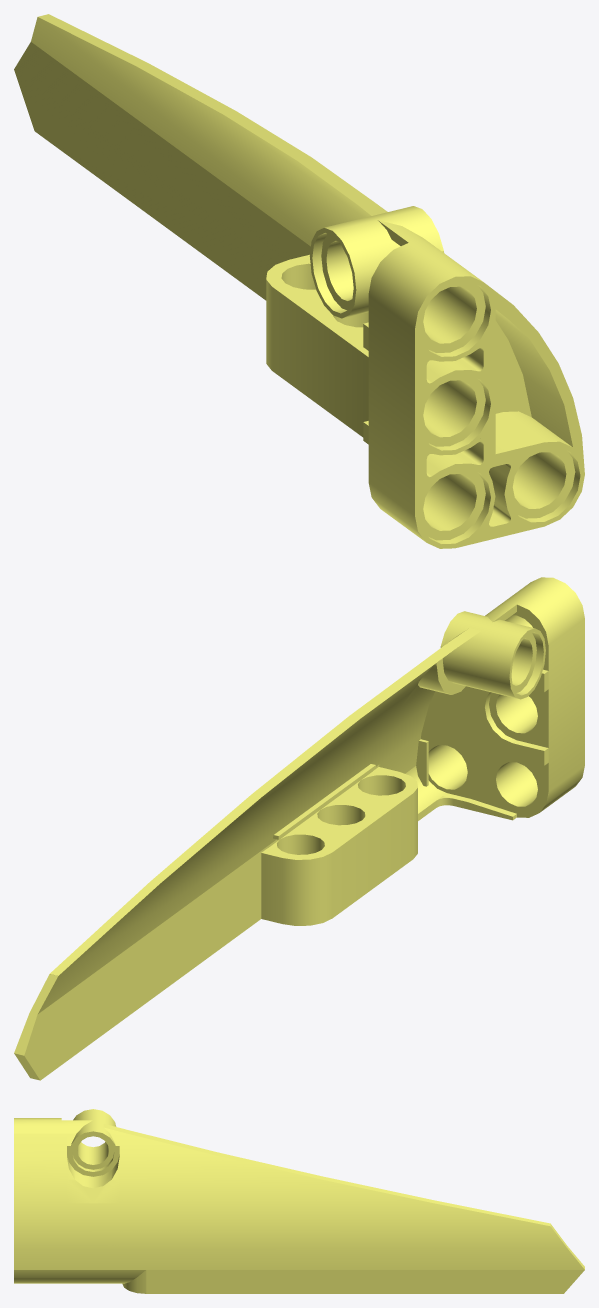
3 renders of one model, top to bottom at view 1: azimuth 30°, elevation 25°; view 2: azimuth 150°, elevation 25°; view 3: azimuth 270°, elevation 25°, orthographic. The views are drawn at different scales.
Visible parts, largest first — view 1: 64681.dat; view 2: 64681.dat; view 3: 64681.dat.
Boxes of the visible parts, x1=… form: 64681.dat: x1=14, y1=14, x2=584, y2=548; 64681.dat: x1=14, y1=577, x2=584, y2=1080; 64681.dat: x1=14, y1=1109, x2=584, y2=1293.
Size of the model in its own units: 0.0156 by 0.0236 by 0.0864.
